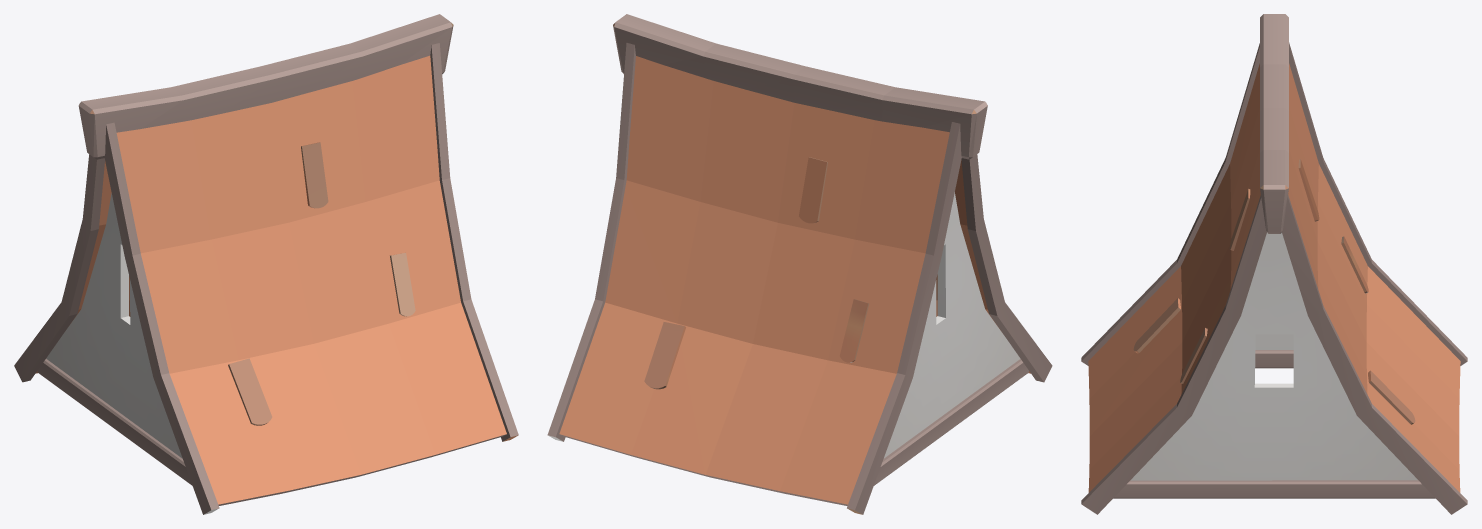
Rendered from roof2.fbx.
3 views of the same model, side by side, from view 1: azimuth 30°, elevation 25°; view 2: azimuth 150°, elevation 25°; view 3: azimuth 270°, elevation 25° (orthographic). The views are drawn at different scales.
Visible parts, largest first — view 1: dach001, ChamferBox010; view 2: dach001, ChamferBox010; view 3: dach001, ChamferBox010.
Part boxes in pixels (bbox=[...]): dach001: bbox=[14, 14, 518, 514]; ChamferBox010: bbox=[37, 359, 192, 485]; dach001: bbox=[547, 14, 1052, 514]; ChamferBox010: bbox=[874, 359, 1028, 485]; dach001: bbox=[1081, 14, 1467, 514]; ChamferBox010: bbox=[1113, 350, 1435, 498].
Size of the model in its own units: 4.4 by 4.04 by 4.13.
